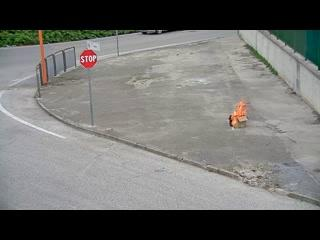fire: (225, 94, 248, 129)
